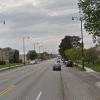Tree: (71, 0, 100, 68)
